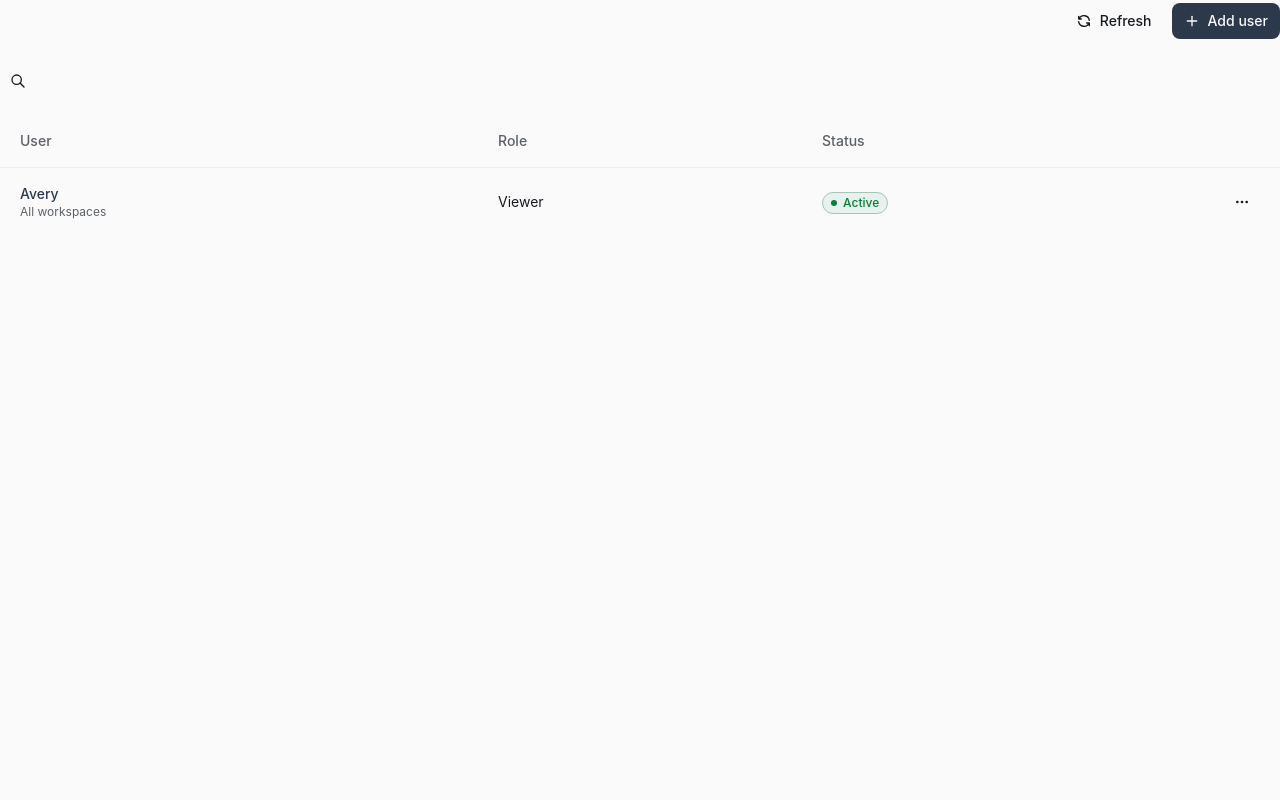
Test: operator administration workflow › keeps the list simple and requires confirmation before revoking organization-wide access
The width and height of the screenshot is (1280, 800).
Click the button named "Actions for Avery". click: (1242, 202)
box: [1224, 184, 1260, 220]
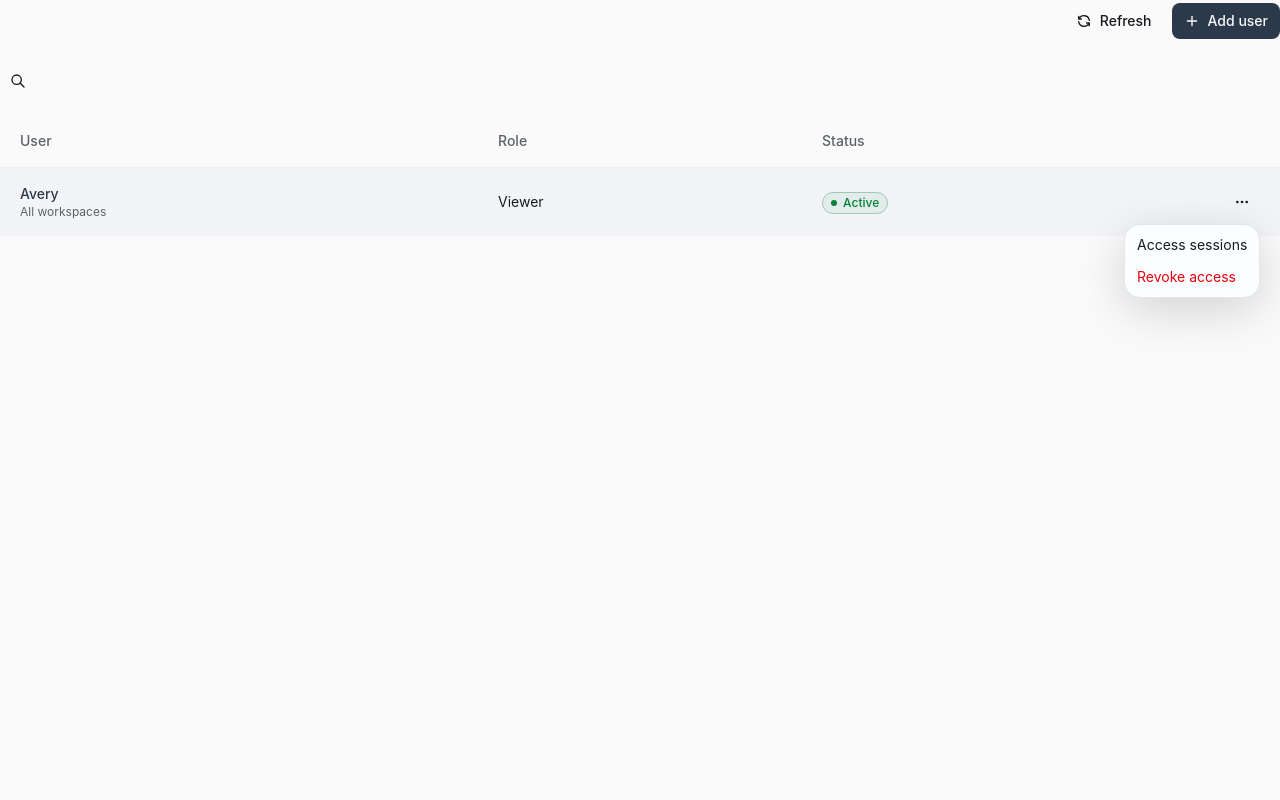
Click the menu item "Revoke access". click: (1186, 276)
box: [1137, 268, 1236, 285]
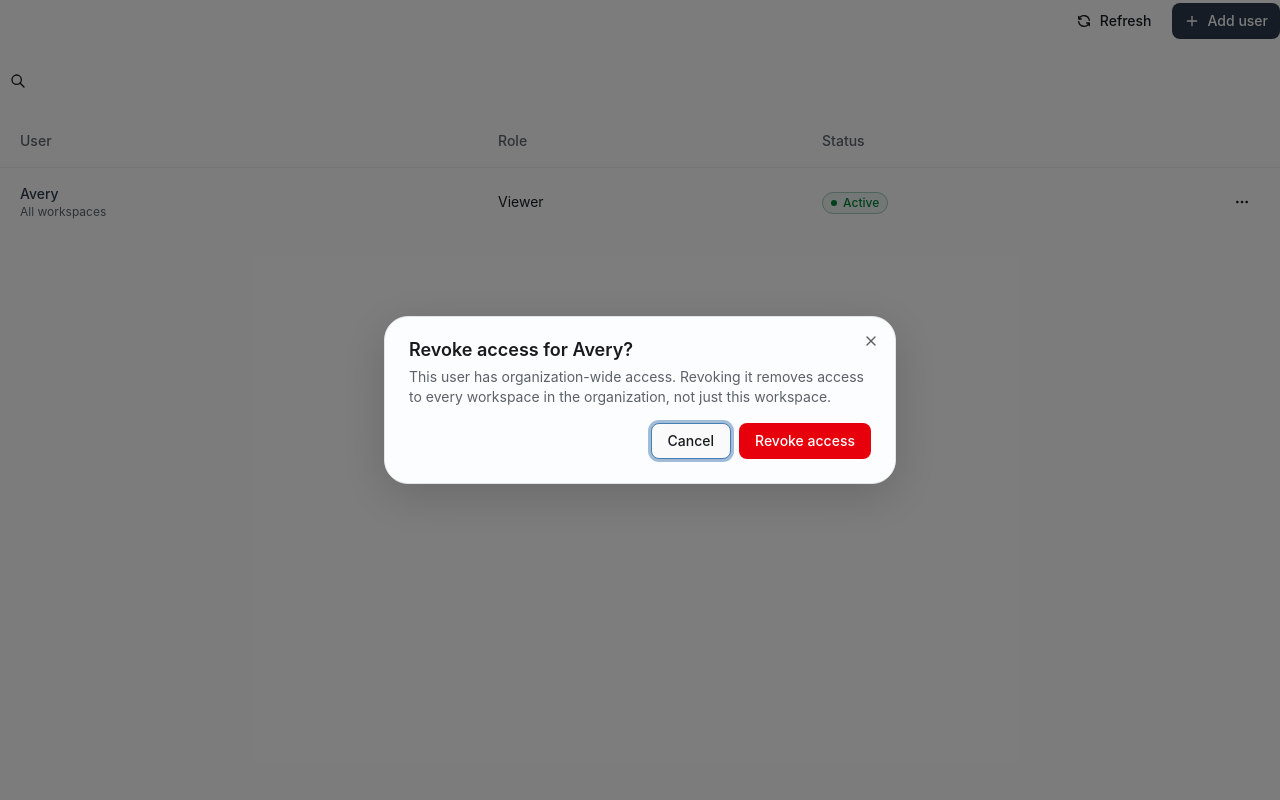
Result: the text "removes access to every workspace" is shown at [409, 368, 864, 405]
Click the button "Cancel". click: (691, 441)
box: [650, 423, 731, 459]
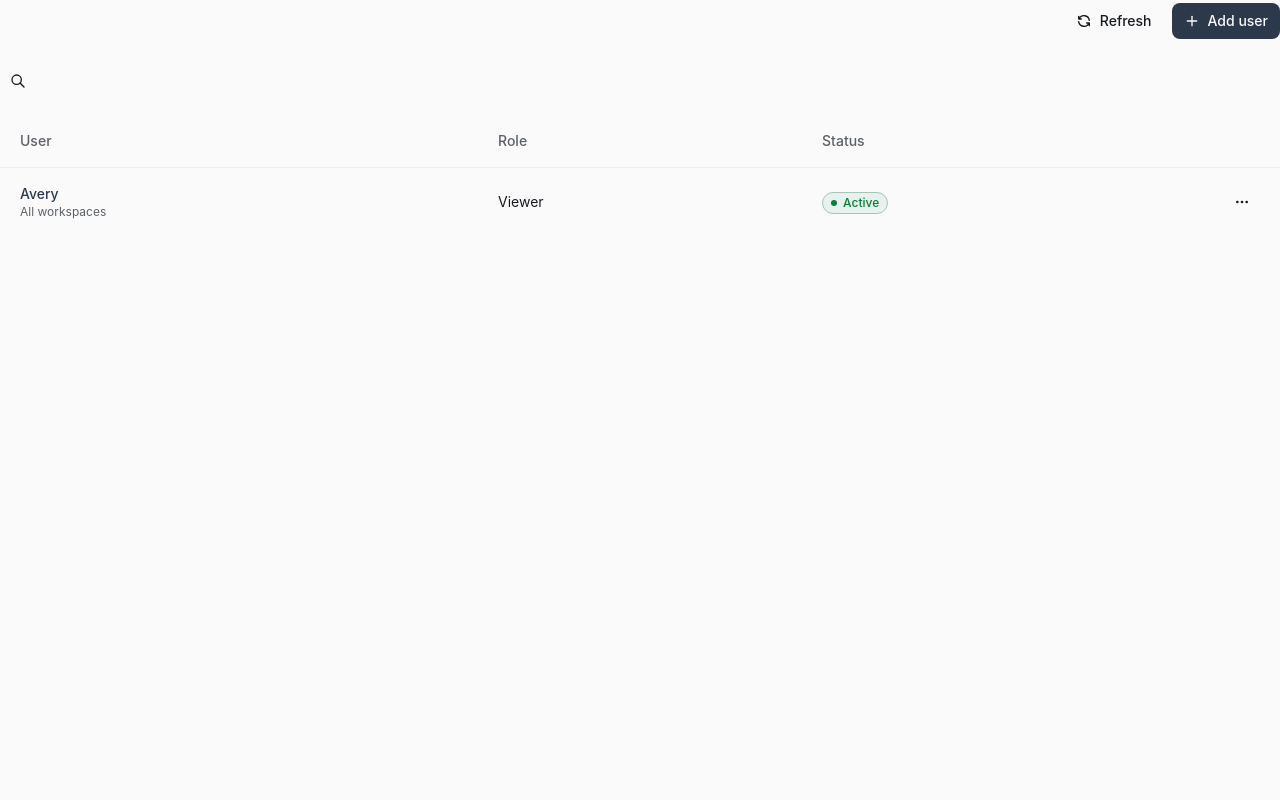
Click the button named "Actions for Avery". click: (1242, 202)
box: [1224, 184, 1260, 220]
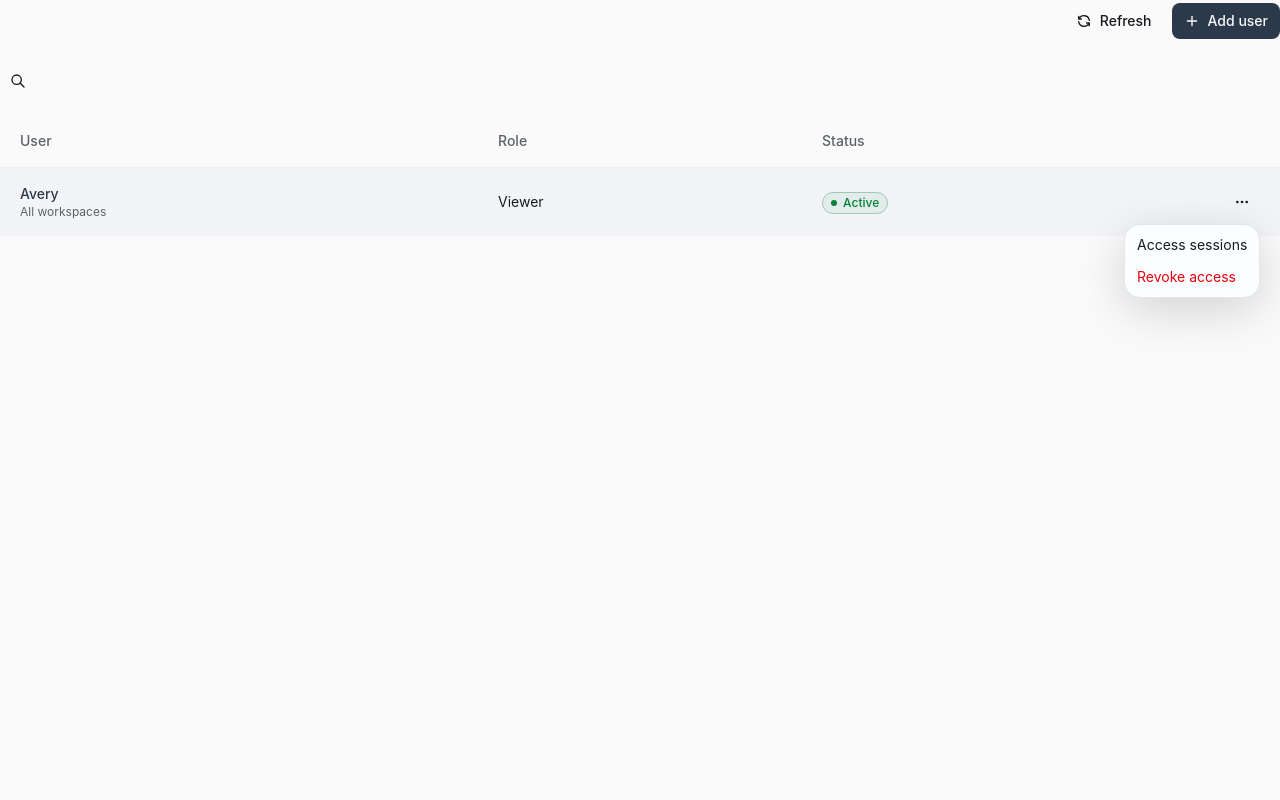
Click the menu item "Revoke access". click: (1186, 276)
box: [1137, 268, 1236, 285]
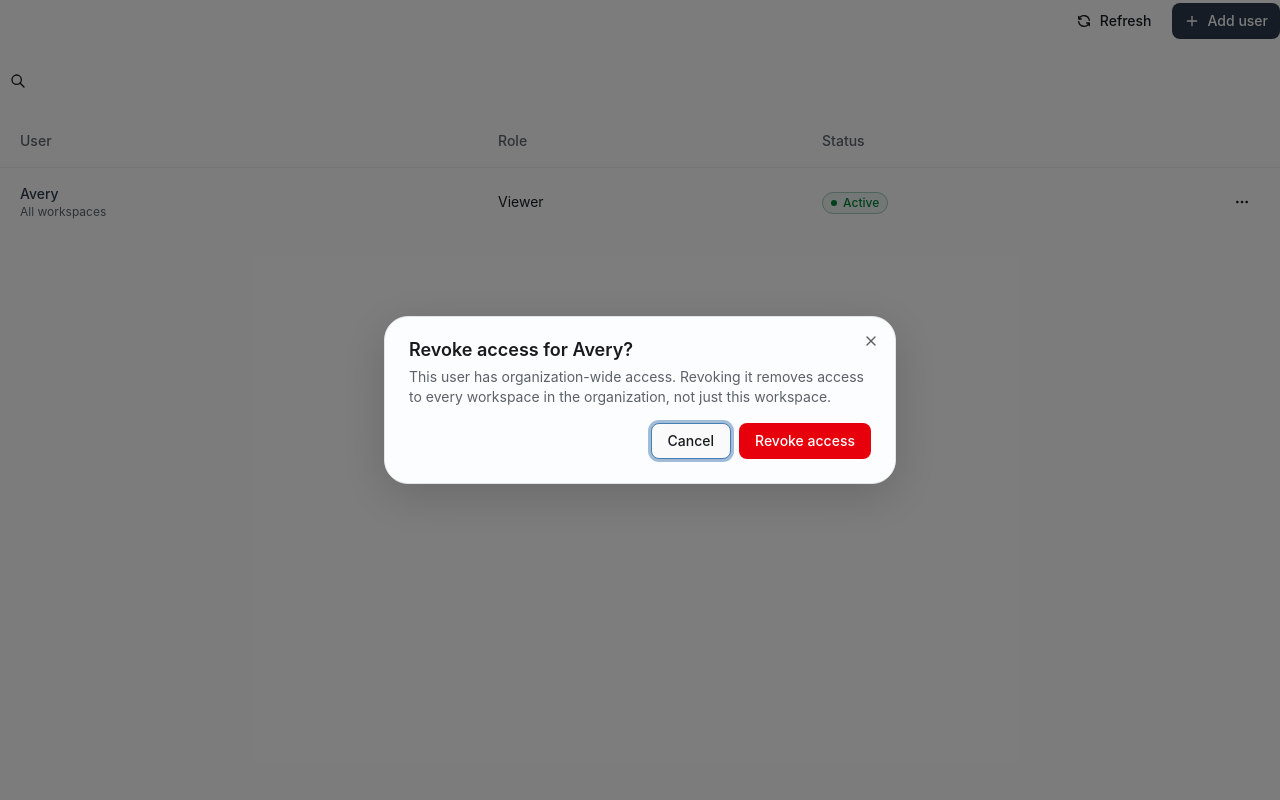
Click the button "Revoke access". click: (805, 441)
box: [739, 423, 871, 459]
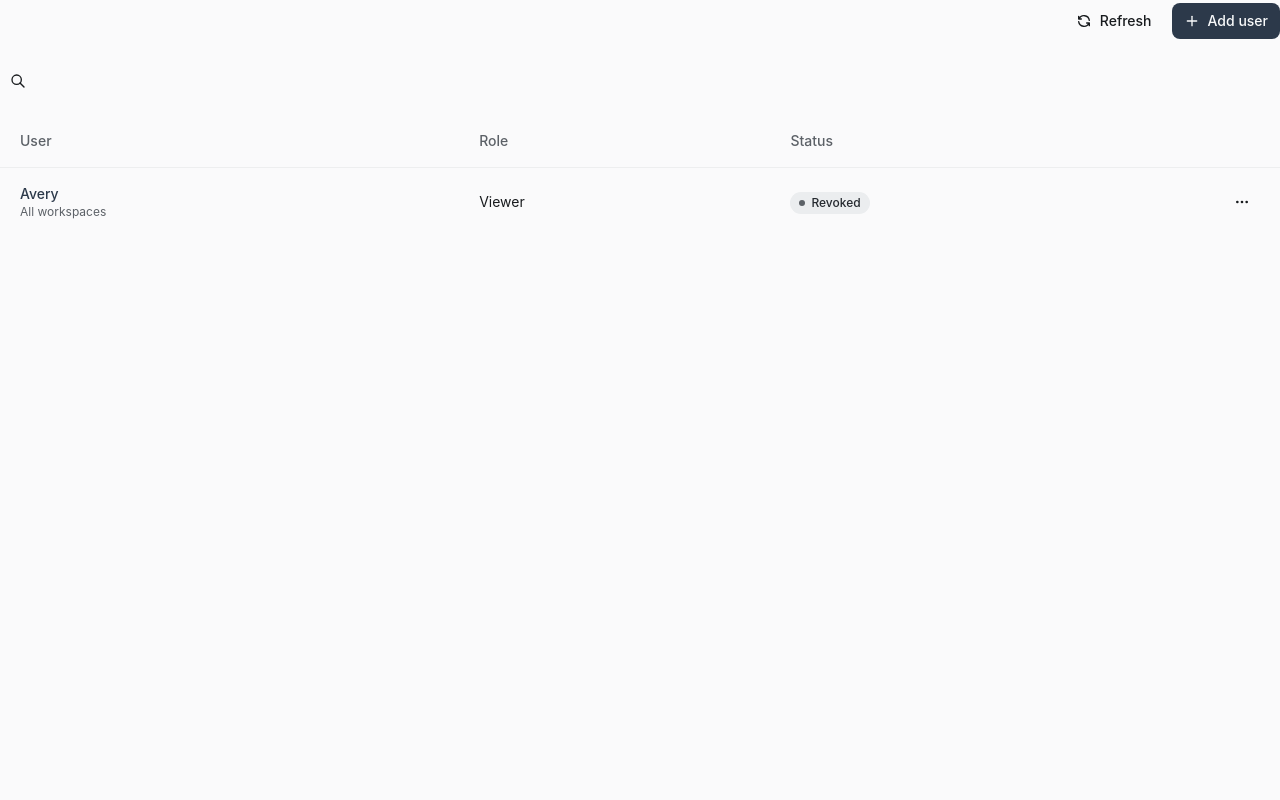
Result: the dialog is gone
